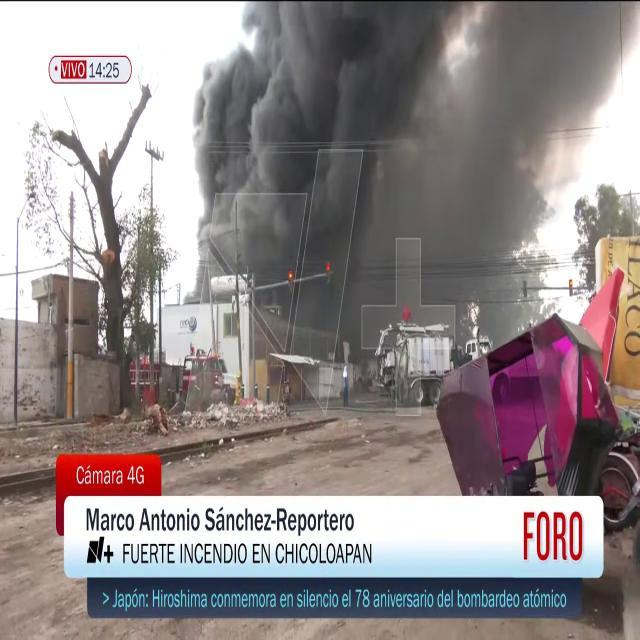Smoke: (188, 0, 639, 310)
